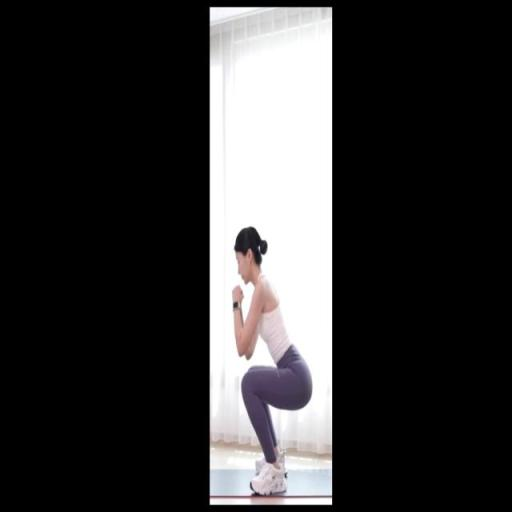Normal_BrenchPress: (231, 226, 313, 496)
